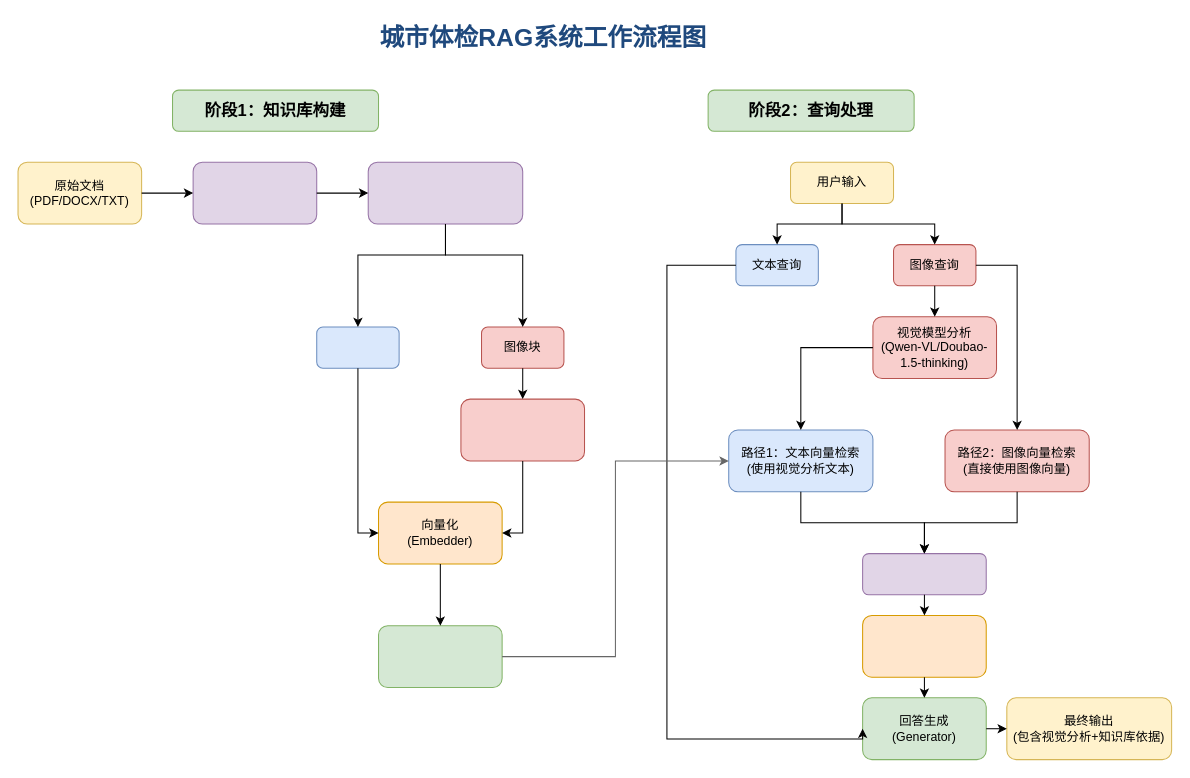
Some shapes in this 1190 by 778 pixel diagram are drawn without their labels. Each missing label, with the centre of its shape:
"PDF转Markdown (pdf2md.py)" goes at pixel 254 192.
"向量存储 (ChromaStore)" goes at pixel 439 656.
"图像描述 (batch_vlm_describe)" goes at pixel 522 429.
"文本块" goes at pixel 357 347.
"文档分块 (MarkdownChunkLoader)" goes at pixel 445 192.
"文档重排序 (Reranker)" goes at pixel 924 645.
"检索结果融合" goes at pixel 924 574.
